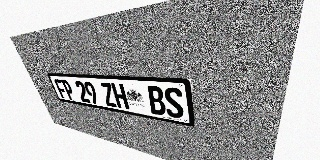2: (74, 80, 91, 103)
9: (83, 81, 100, 104)
B: (146, 86, 167, 116)
F: (53, 79, 69, 99)
H: (111, 83, 130, 110)
P: (60, 79, 76, 100)
S: (163, 87, 185, 119)
Z: (99, 82, 118, 108)
